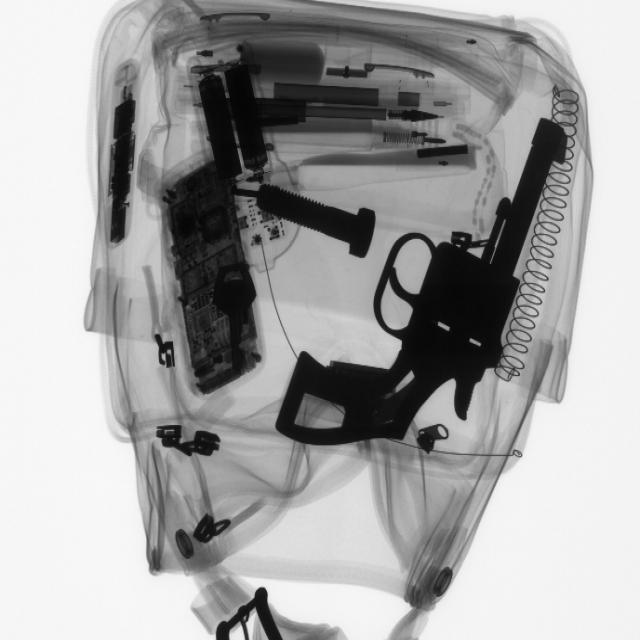GUN: (265, 118, 582, 450)
